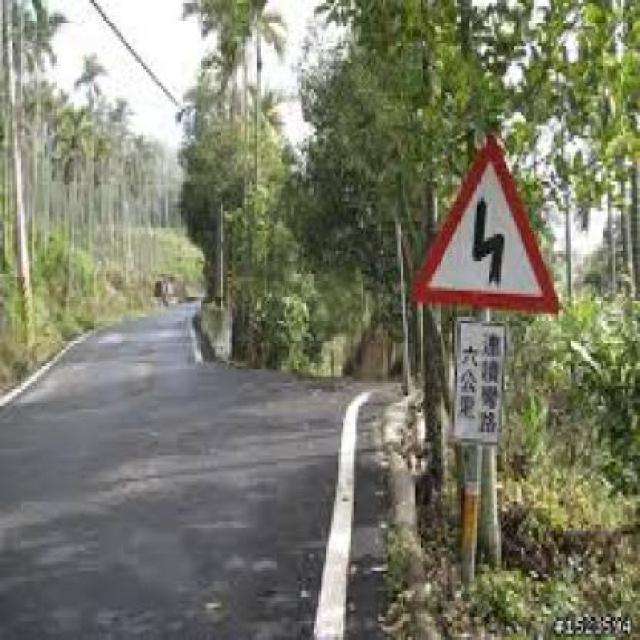warn_double_curve: (413, 128, 562, 310)
